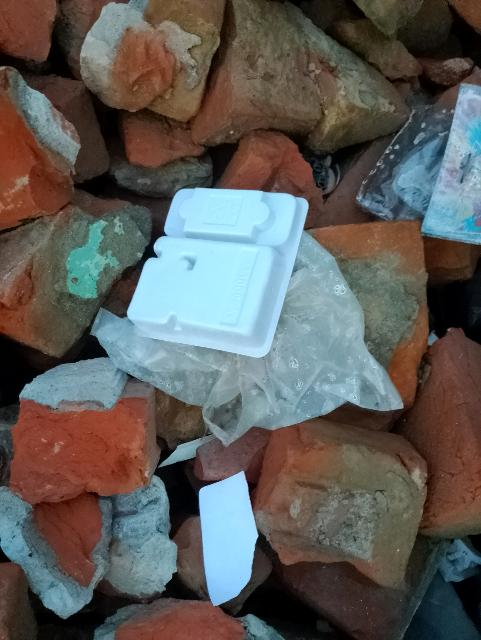cocksheet: (120, 160, 310, 374)
